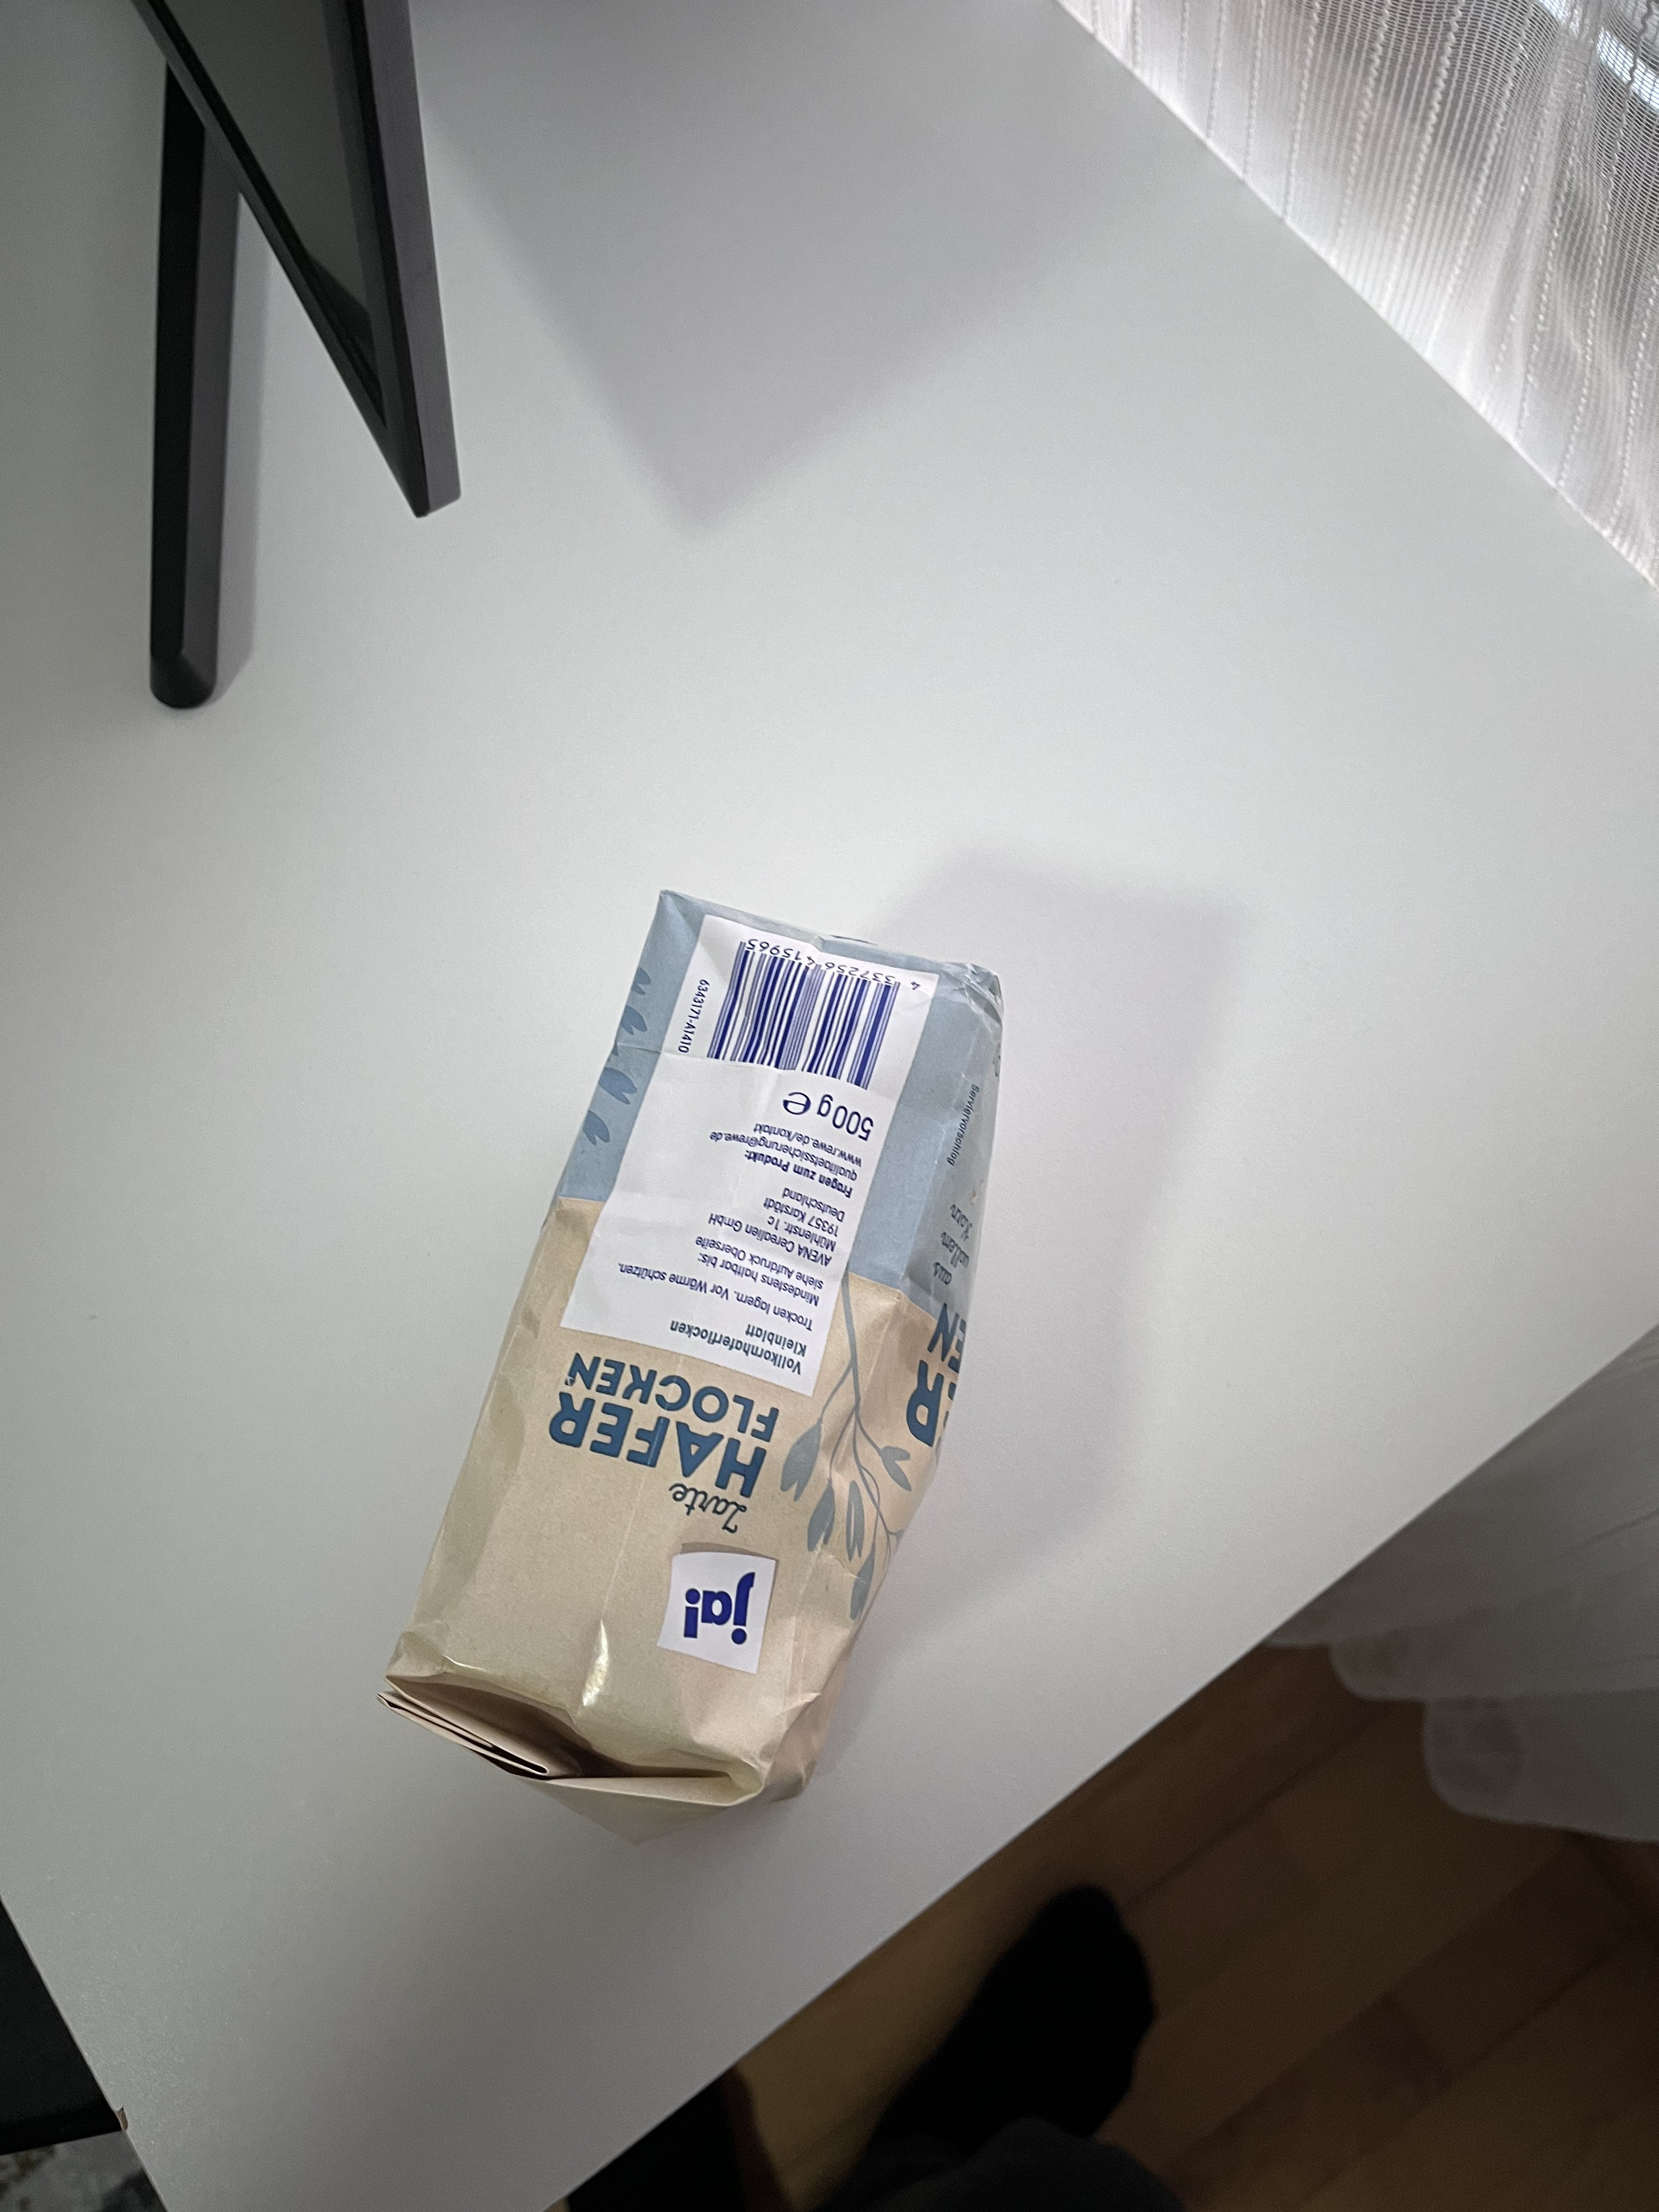haferflocken_ja: (378, 890, 1007, 1813)
